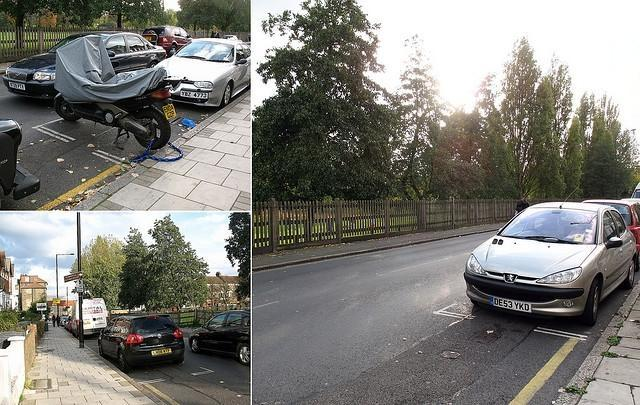car: (463, 202, 638, 326), (156, 38, 252, 108), (97, 314, 186, 374), (188, 311, 252, 364), (0, 119, 40, 200), (585, 200, 640, 257), (102, 33, 167, 73), (142, 26, 196, 58), (60, 317, 68, 328)
motorcycle: (54, 33, 178, 152)
